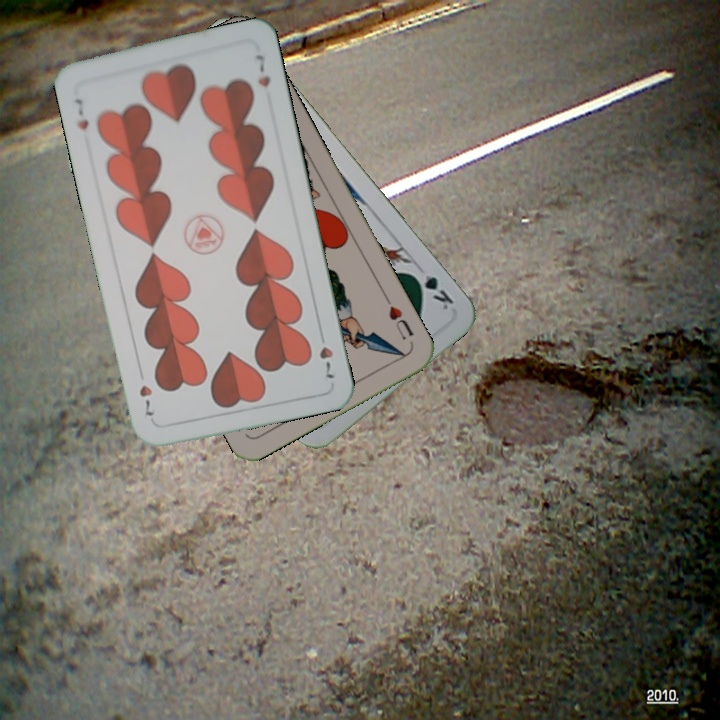GK: (407, 268, 457, 315)
H7: (315, 326, 337, 381), (70, 94, 91, 133)
HU: (381, 292, 416, 343)
